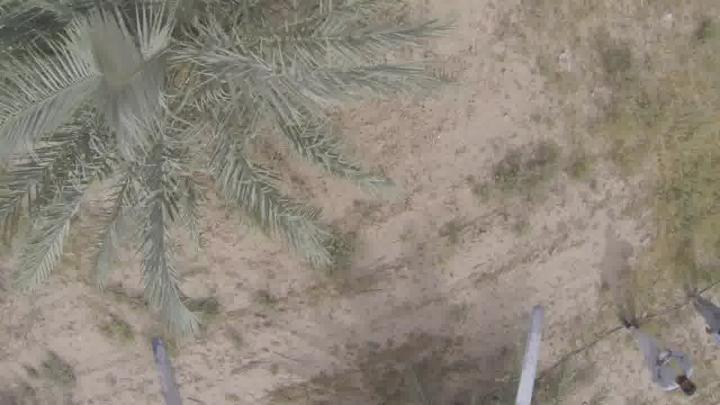Date-Palm-Crown: (14, 1, 268, 172)
